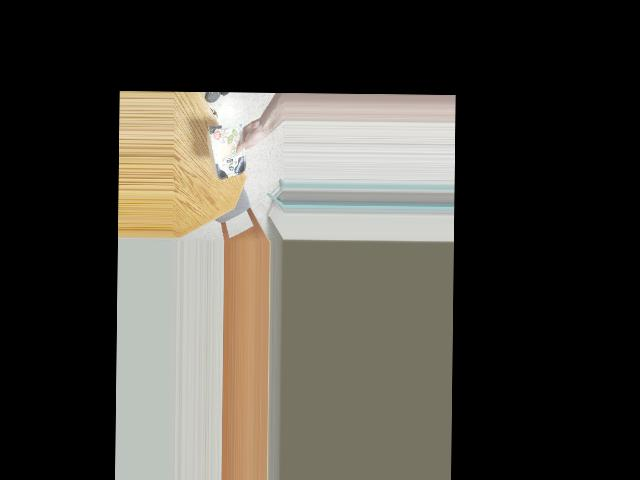cheese: (214, 120, 249, 181)
